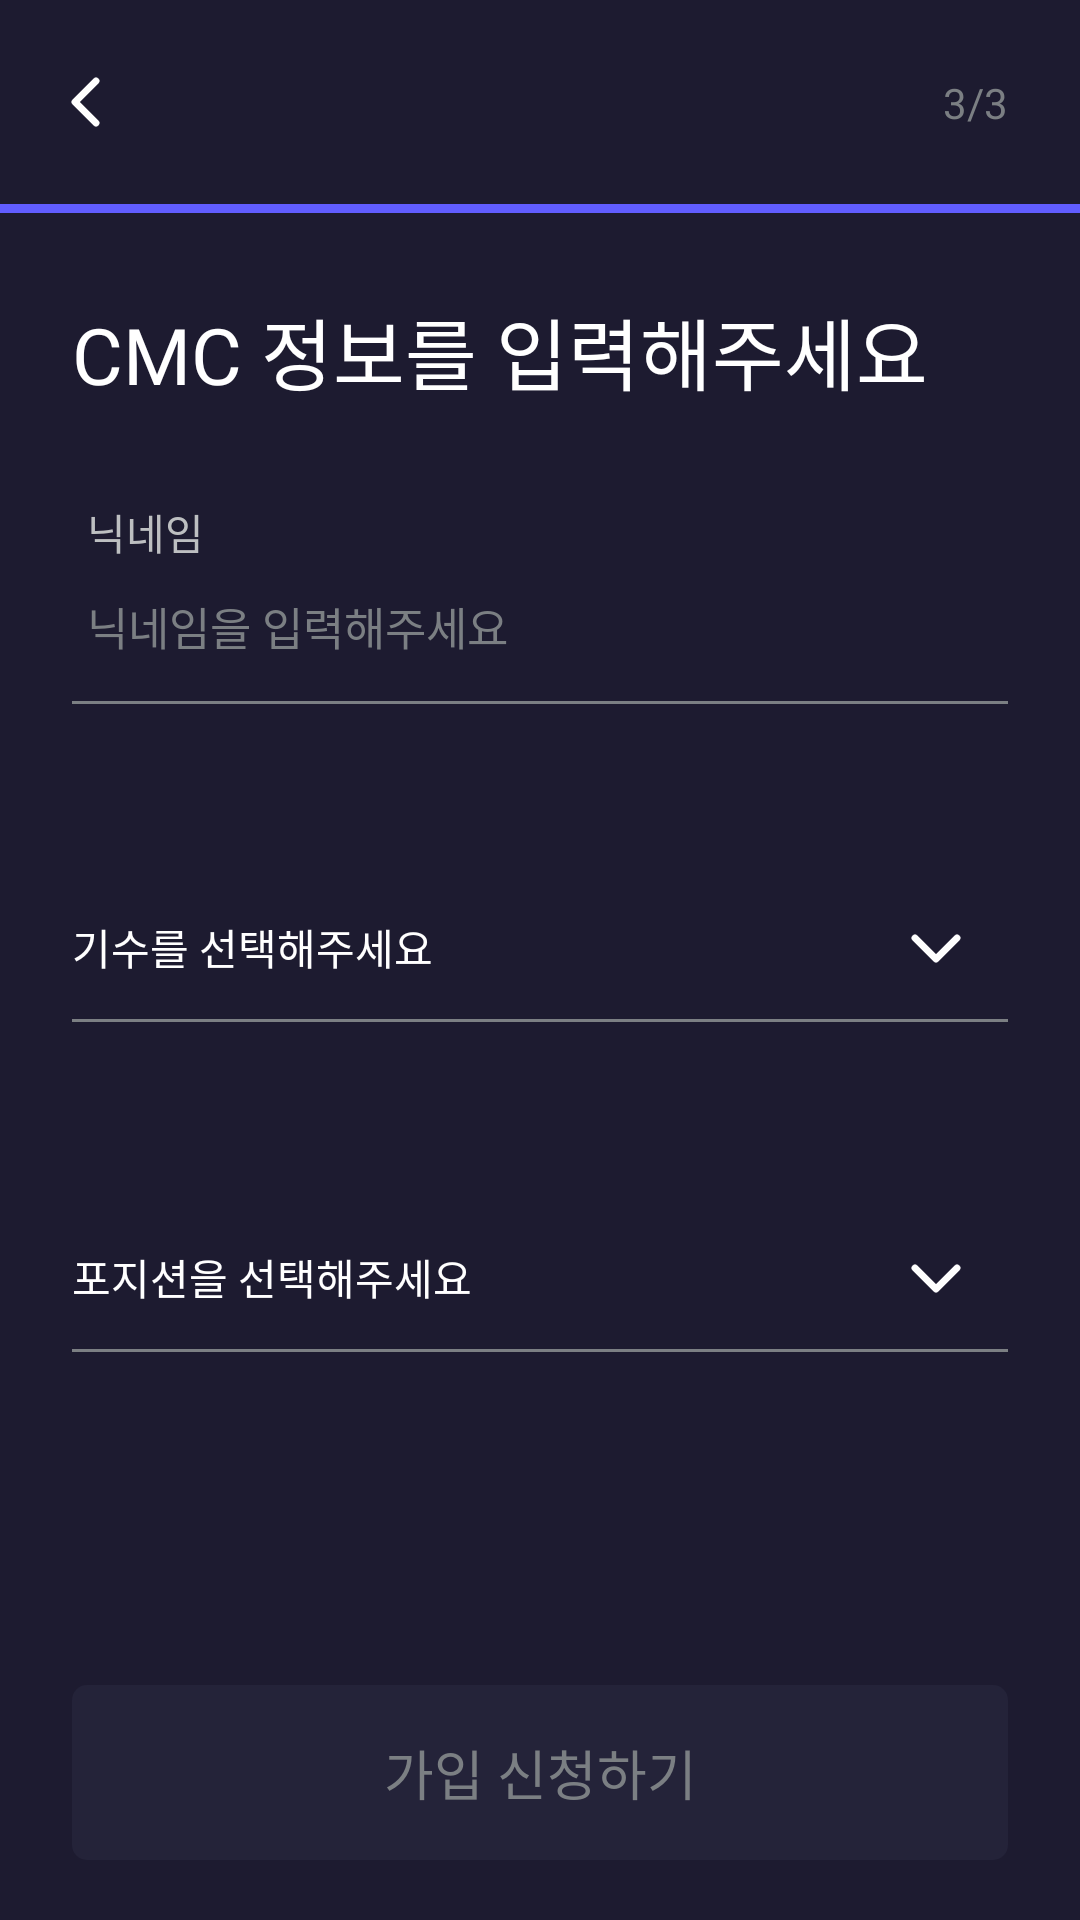

Icon bounding boxes for this 1080w x 1920h phone screenshot, format (x1, y1, x2, y2):
arrow down: (911, 934, 961, 963), (911, 1264, 961, 1293)
arrow left: (71, 77, 100, 127)
